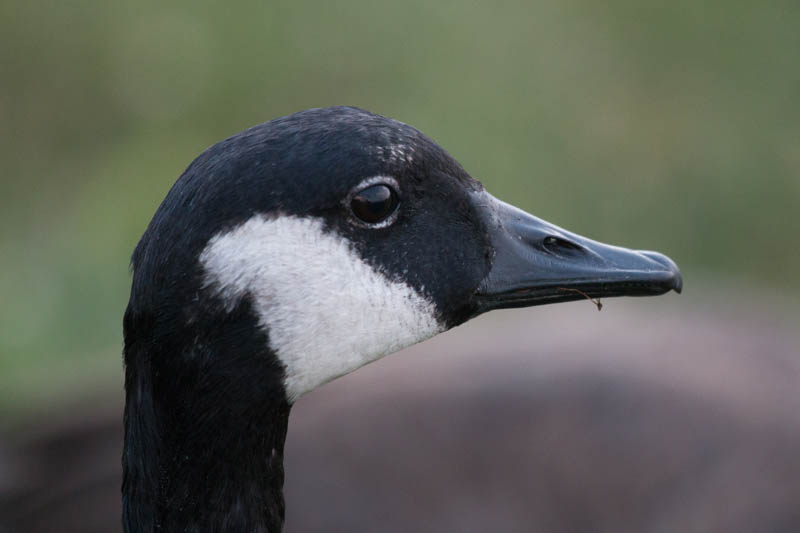goose-head: (124, 105, 683, 407)
